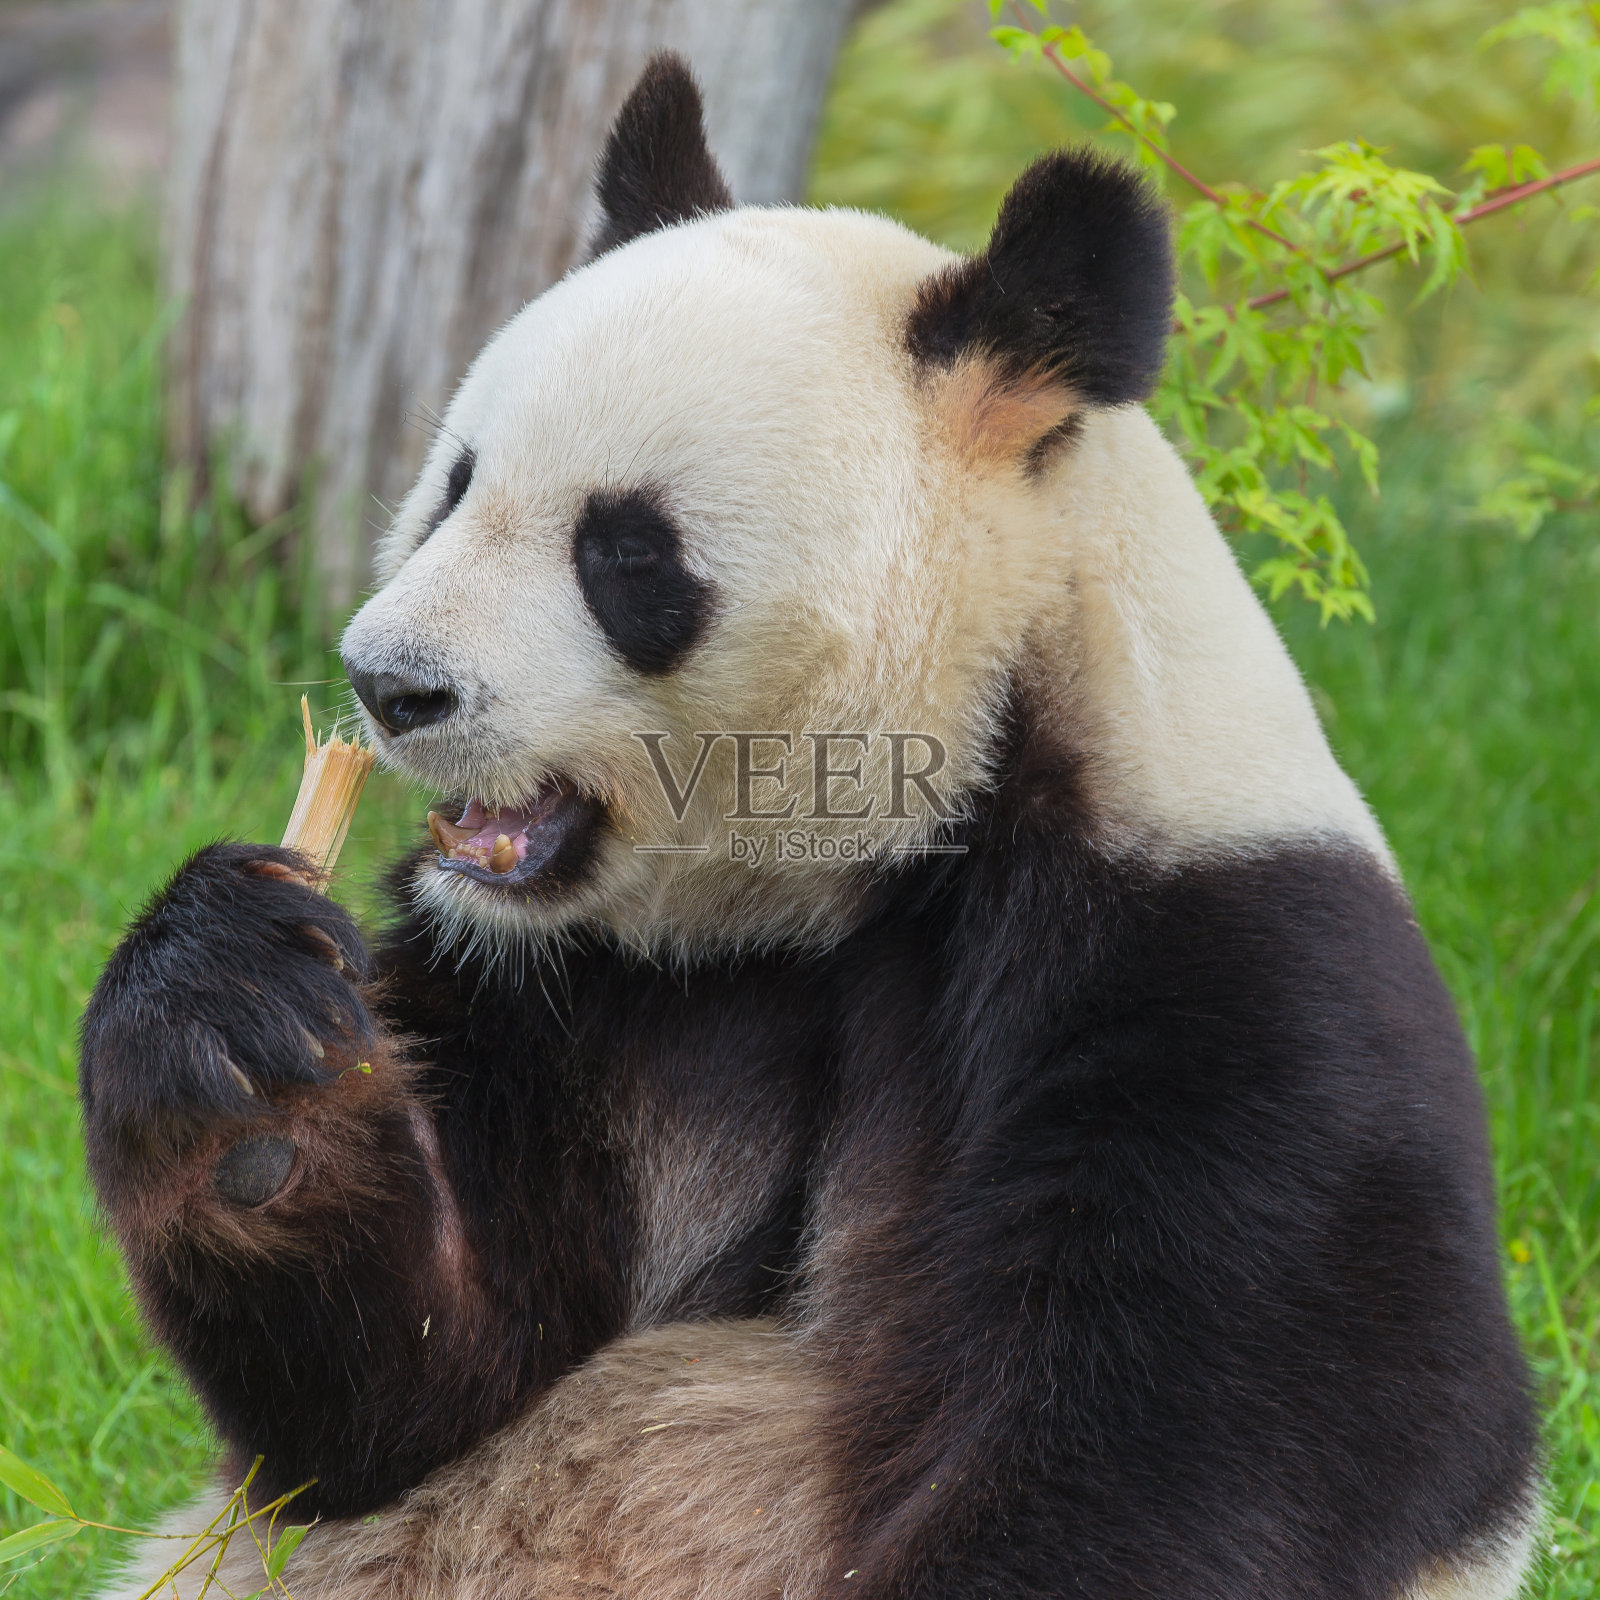panda: (89, 56, 1541, 1581)
